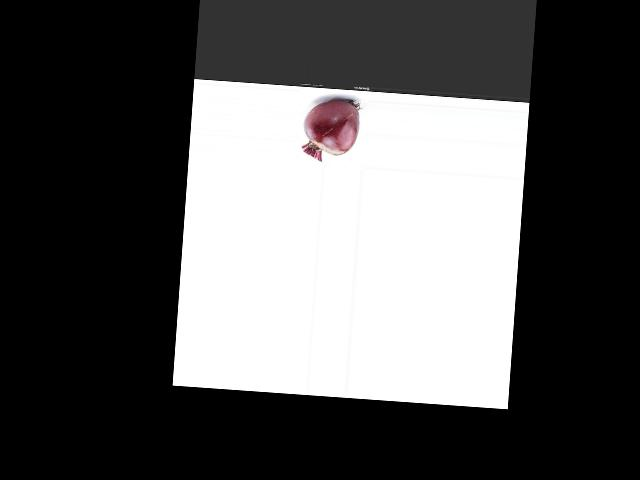beet: (300, 97, 360, 163)
